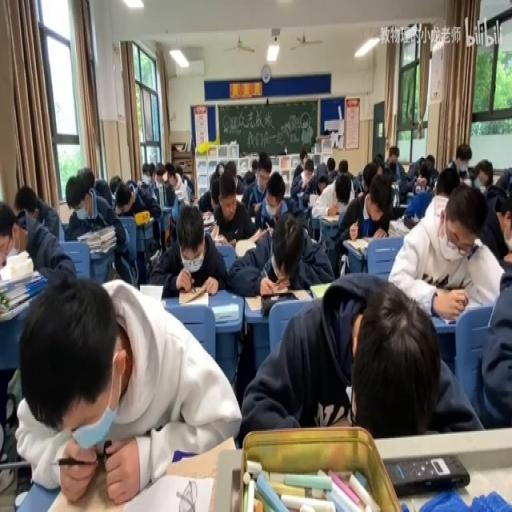calculator: (0, 249, 48, 318), (120, 474, 214, 509), (242, 290, 312, 312), (13, 479, 56, 511), (443, 293, 485, 314), (178, 286, 209, 304), (234, 235, 259, 256), (212, 302, 238, 322), (138, 282, 164, 300), (390, 216, 411, 236), (309, 282, 331, 300), (344, 238, 370, 253), (434, 312, 460, 324), (395, 202, 409, 218), (310, 209, 320, 230), (202, 209, 214, 225), (148, 248, 160, 263), (320, 213, 339, 222), (210, 223, 219, 242), (308, 194, 318, 208), (295, 189, 305, 202), (228, 238, 237, 248), (405, 192, 414, 202), (235, 193, 243, 202)
paper: (20, 270, 240, 502), (240, 268, 477, 440), (388, 179, 506, 317), (62, 168, 132, 286), (150, 203, 228, 296), (473, 256, 512, 428), (332, 168, 394, 267), (209, 169, 256, 246), (247, 152, 285, 225), (14, 184, 61, 240), (398, 150, 437, 200), (113, 179, 155, 222), (296, 161, 331, 202), (382, 145, 404, 181), (434, 166, 458, 196), (471, 159, 493, 189), (93, 176, 112, 206), (360, 161, 376, 192), (334, 175, 350, 205), (494, 168, 510, 195), (242, 158, 256, 183), (108, 174, 122, 196), (140, 164, 154, 186), (164, 164, 176, 186), (224, 159, 237, 179), (182, 174, 194, 194), (164, 182, 174, 206), (350, 172, 362, 192), (154, 166, 166, 184), (292, 162, 302, 179), (125, 179, 137, 192), (373, 151, 382, 168), (174, 164, 184, 179), (424, 155, 434, 169), (338, 158, 347, 173), (326, 156, 334, 170), (299, 154, 307, 168), (418, 156, 426, 165)
person: (384, 452, 470, 496), (500, 254, 510, 268)
